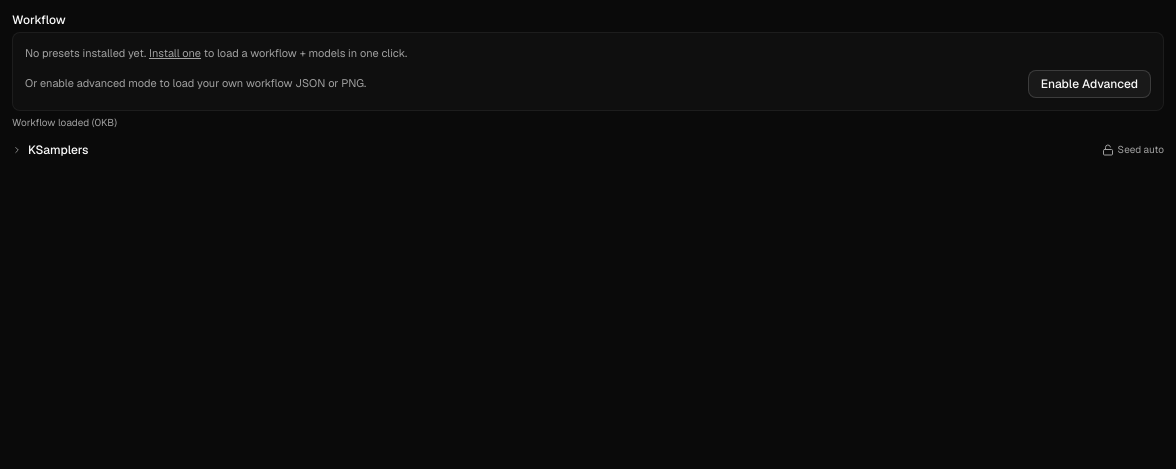
Test: ComfyGen ClownShark curated sampler list › ClownShark panel uses its curated sampler_options; standard uses global cache
This screenshot has width=1176, height=469.
Expected: the text "KSamplers" is shown, top-left (28, 142), bottom-right (88, 158)
Click the button "KSamplers". click: click(50, 150)
box: top-left (12, 142), bottom-right (88, 158)
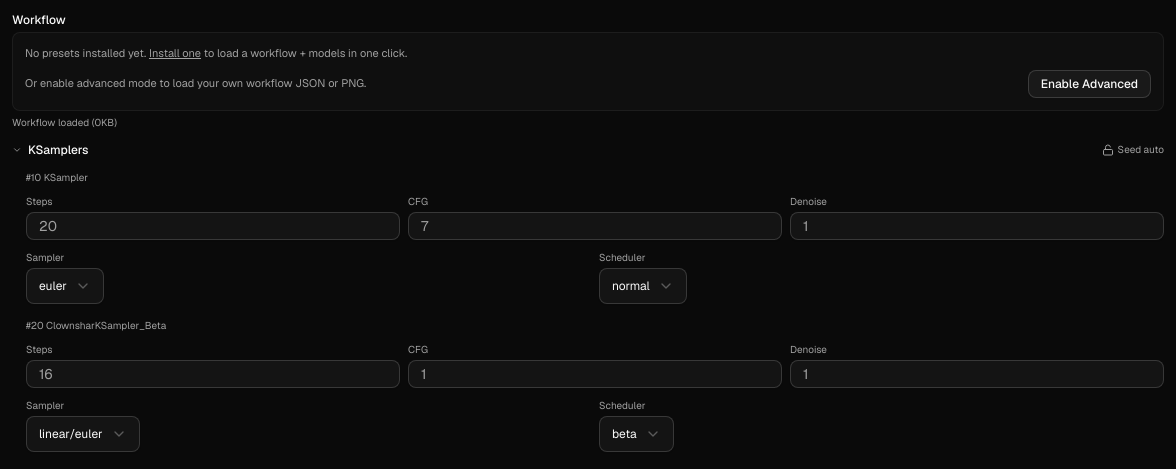
Expected: the text "euler" is shown, top-left (39, 278), bottom-right (67, 294)
Expected: the text "linear/euler" is shown, top-left (39, 426), bottom-right (103, 442)
Expected: the text "beta" is shown, top-left (612, 426), bottom-right (637, 442)
